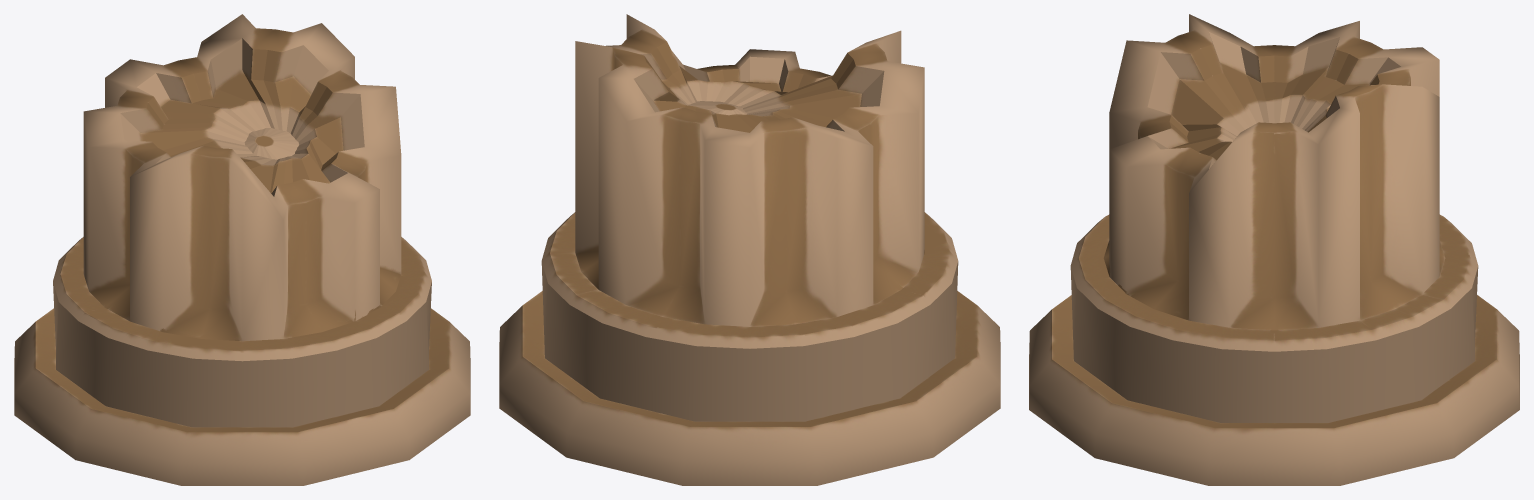
The model's file is Pilar_Base.fbx.
3 renders of one model, left to right at view 1: azimuth 30°, elevation 25°; view 2: azimuth 150°, elevation 25°; view 3: azimuth 270°, elevation 25°, orthographic. The views are drawn at different scales.
Parts seen in each view (by area): view 1: Pillar_Bot; view 2: Pillar_Bot; view 3: Pillar_Bot.
Boxes of the visible parts, x1,y1,x2,y2 form: Pillar_Bot: [14, 14, 470, 485]; Pillar_Bot: [499, 14, 1000, 485]; Pillar_Bot: [1029, 14, 1519, 485].
Bounding box in the file's own units: 193 × 193 × 144.
Materials: 1 (1 with a texture image).
